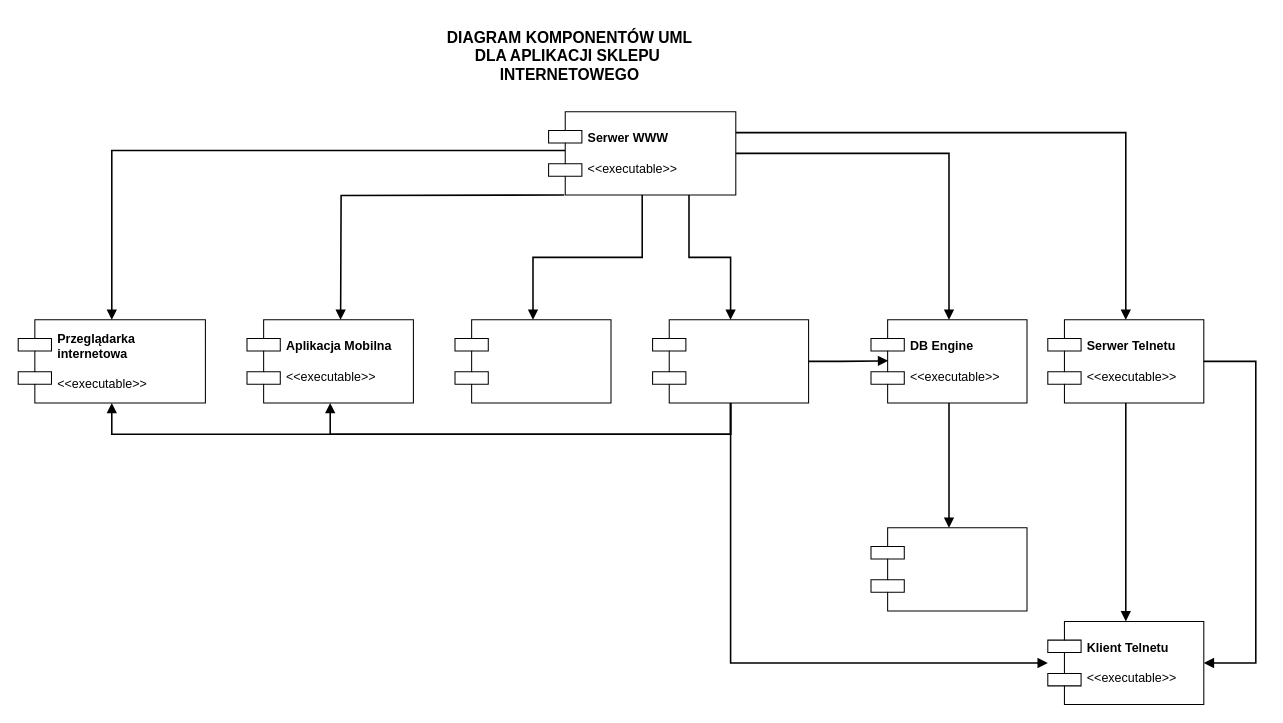
Image size: 1283x723. Some labels were removed from this diagram. The shapes that lost their labels are listed below. From the top down, each one's centre as x and y in pixels, then its label:
At (532,361): "Sklep internetowy <<pages>>".
At (730,361): "Biblioteka SSL <<library>>".
At (948,569): "Baza danych <<database>>".
